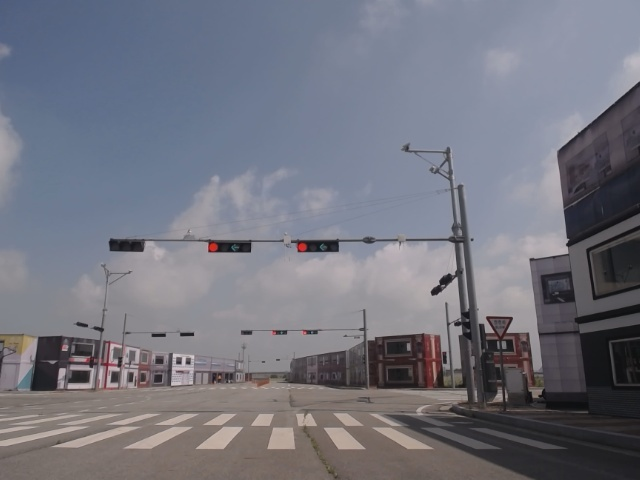left_green_4: (208, 240, 251, 253), (297, 241, 340, 253)
